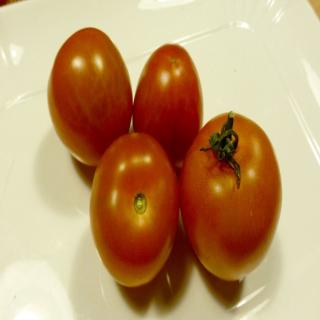tomato: (178, 110, 282, 282), (88, 130, 183, 289), (44, 23, 134, 171), (129, 42, 207, 176)
